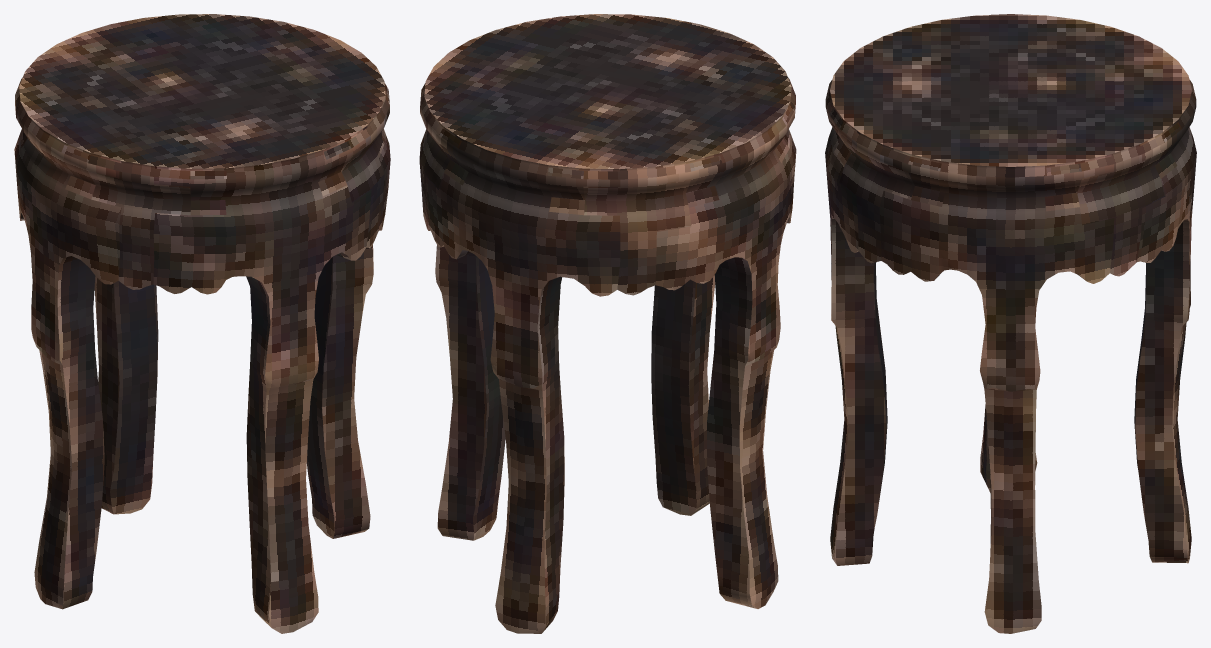
File: b_sidetable.glb
3 renders of one model, left to right at view 1: azimuth 30°, elevation 25°; view 2: azimuth 150°, elevation 25°; view 3: azimuth 270°, elevation 25°, orthographic.
Visible parts, largest first — view 1: body; view 2: body; view 3: body.
Boxes of the visible parts, <box> form: body: <box>14,14,390,633</box>; body: <box>419,14,796,633</box>; body: <box>825,14,1196,633</box>.
Bounding box in the file's own units: 0.3007 × 0.4177 × 0.3007.
Materials: 1 (1 with a texture image).
